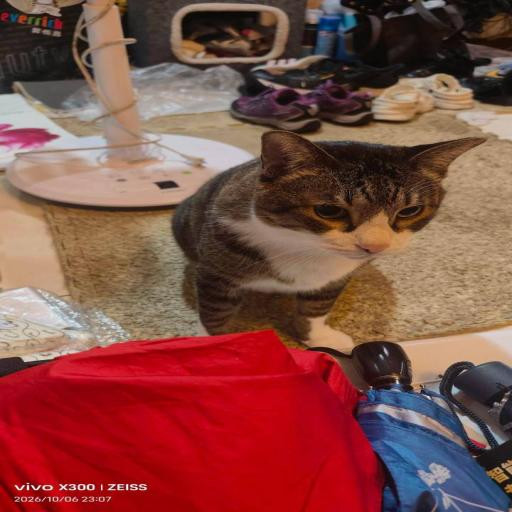cat: (175, 134, 453, 344)
